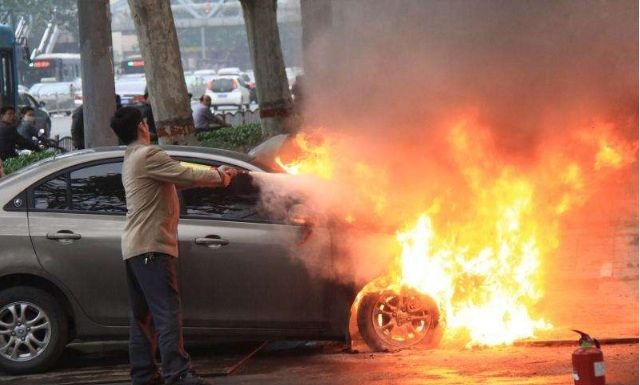喷灌水雾: (248, 171, 405, 292)
